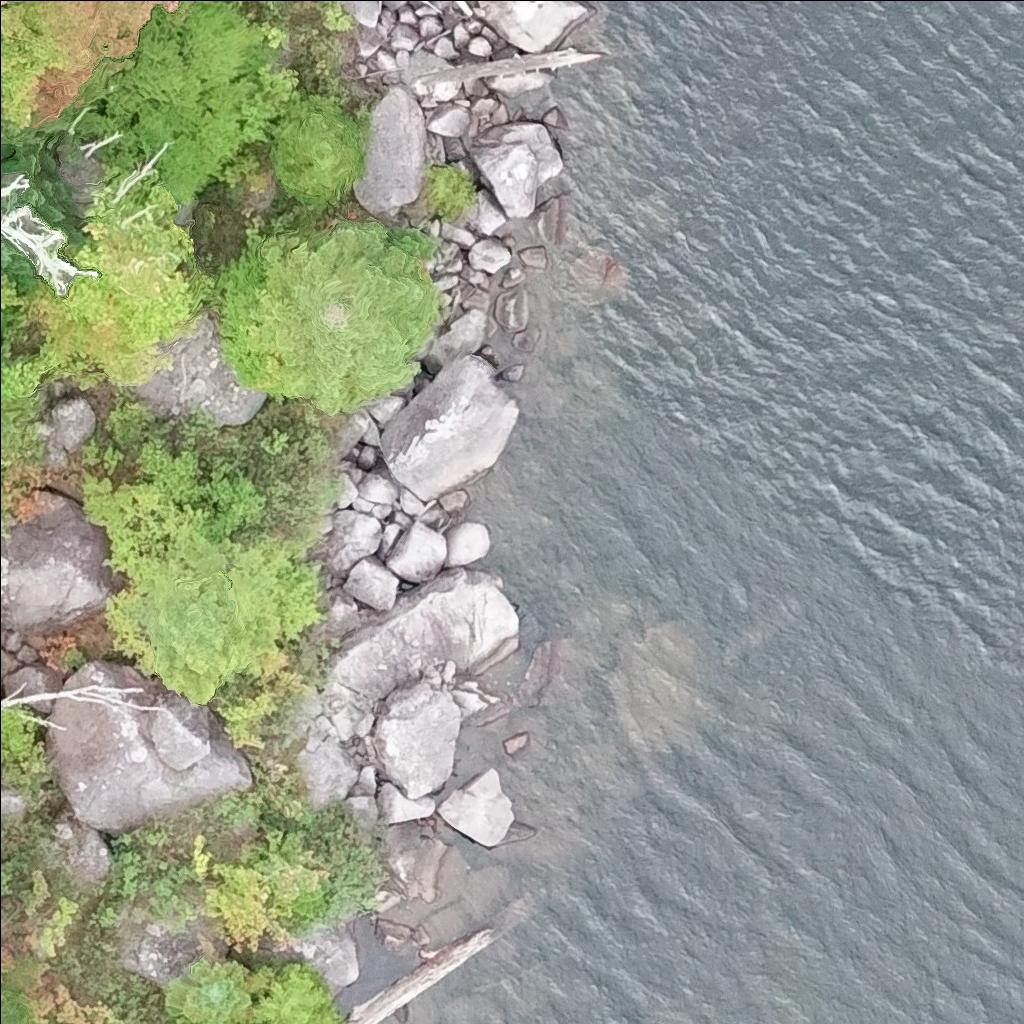crown: (24, 176, 212, 389), (240, 220, 436, 414), (130, 535, 297, 702), (0, 0, 182, 138), (266, 90, 368, 206), (164, 956, 270, 1023), (243, 959, 342, 1023), (0, 268, 37, 336), (0, 237, 37, 280), (0, 995, 31, 1023), (227, 1013, 250, 1023), (169, 1015, 188, 1023), (0, 461, 7, 470), (0, 152, 2, 175), (205, 1023, 206, 1023)
